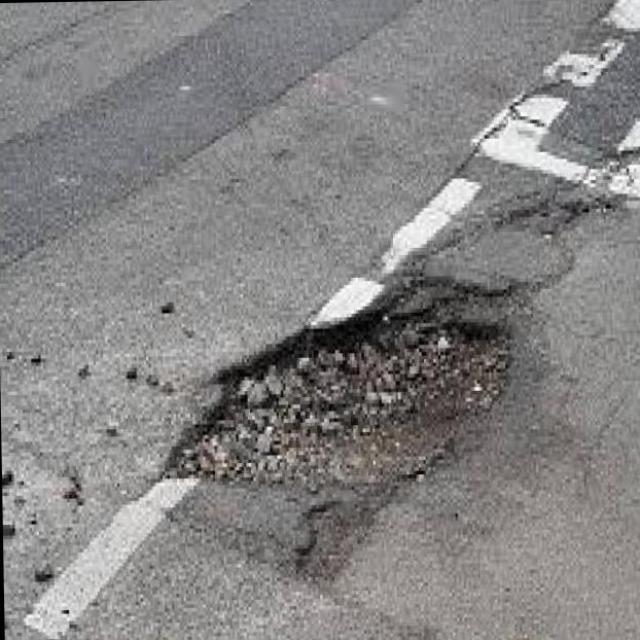Lubang: (169, 277, 529, 590)
